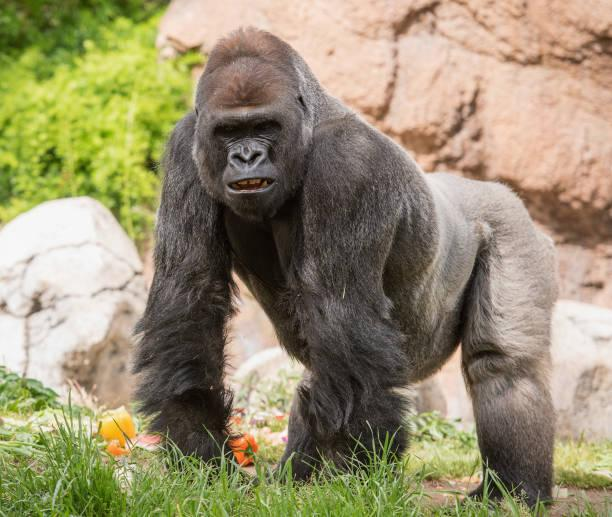gorille_Autres: (110, 3, 590, 505)
